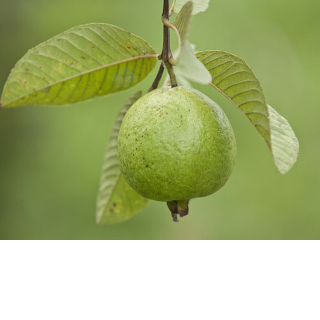oi: (114, 81, 237, 211)
